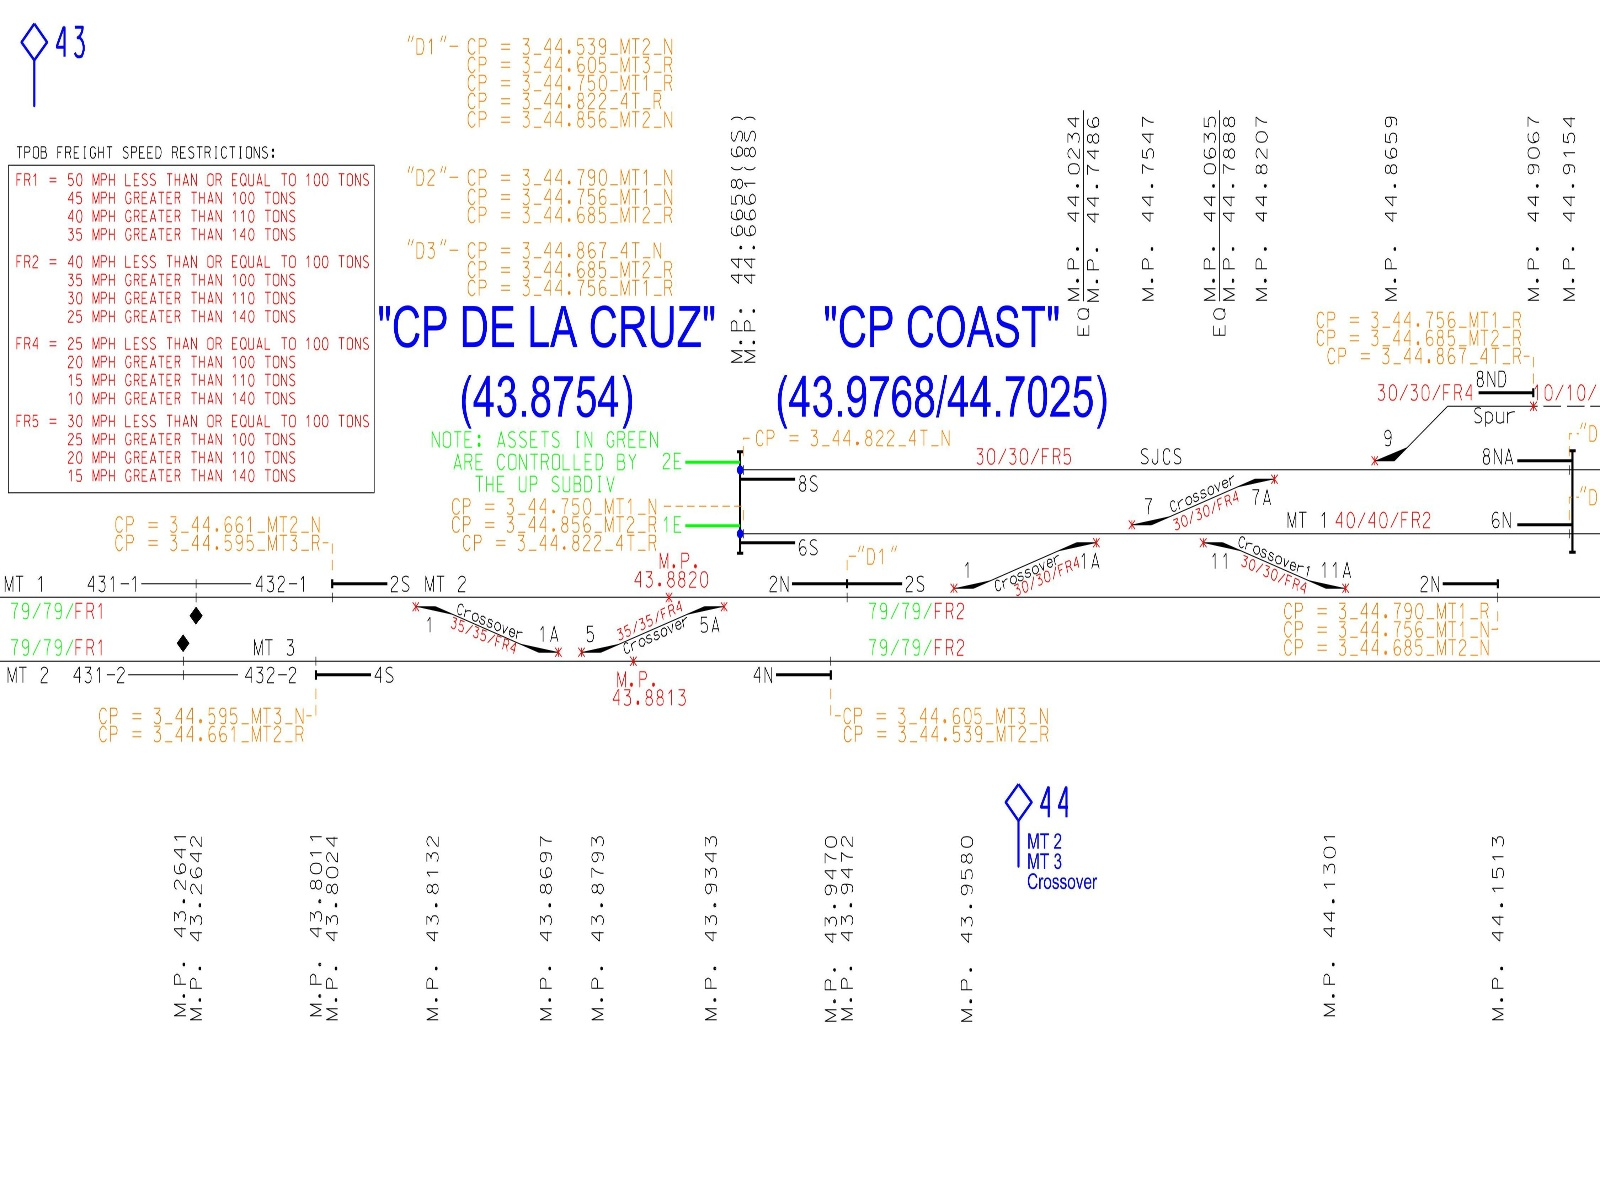leftSignal: (750, 653, 855, 698), (745, 570, 850, 615), (1478, 439, 1584, 482), (1409, 566, 1511, 608), (1487, 502, 1587, 543), (1461, 362, 1555, 402)
milepost: (574, 824, 656, 1040), (1293, 818, 1374, 1034), (141, 824, 222, 1041), (287, 821, 368, 1037), (392, 821, 472, 1037), (489, 823, 569, 1039), (671, 822, 752, 1037), (799, 824, 879, 1040), (916, 822, 997, 1037), (1456, 822, 1537, 1037), (1521, 108, 1590, 315), (1124, 110, 1184, 319), (1242, 107, 1301, 316), (1359, 101, 1419, 310)
rightSignal: (309, 560, 414, 605), (727, 523, 831, 568), (299, 653, 403, 698), (733, 461, 838, 505), (840, 568, 936, 615)
switch: (573, 618, 621, 669), (944, 555, 991, 606), (523, 620, 571, 671), (687, 592, 734, 643), (1075, 529, 1116, 582), (1123, 487, 1164, 539), (1317, 553, 1358, 606), (1371, 422, 1412, 475), (1242, 463, 1283, 516), (1194, 527, 1235, 580), (420, 599, 462, 647)
